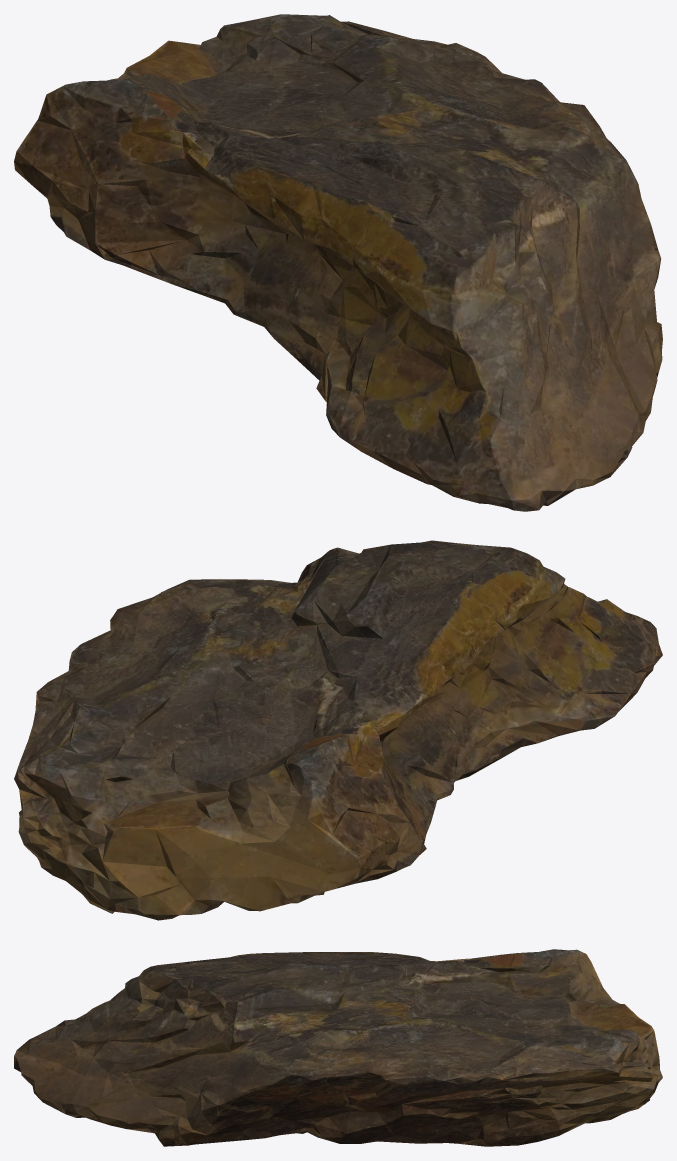
Rendered from rock_09.glb.
3 views of the same model, one above another, from view 1: azimuth 30°, elevation 25°; view 2: azimuth 150°, elevation 25°; view 3: azimuth 270°, elevation 25° (orthographic). The views are drawn at different scales.
Parts seen in each view (by area): view 1: rock_09_LOD0; view 2: rock_09_LOD0; view 3: rock_09_LOD0.
Boxes of the visible parts, x1=… form: rock_09_LOD0: x1=14, y1=14, x2=662, y2=511; rock_09_LOD0: x1=14, y1=540, x2=662, y2=920; rock_09_LOD0: x1=14, y1=949, x2=662, y2=1146.
Size of the model in its own units: 0.0739 by 0.0326 by 0.1446.
Materials: 1 (1 with a texture image).
